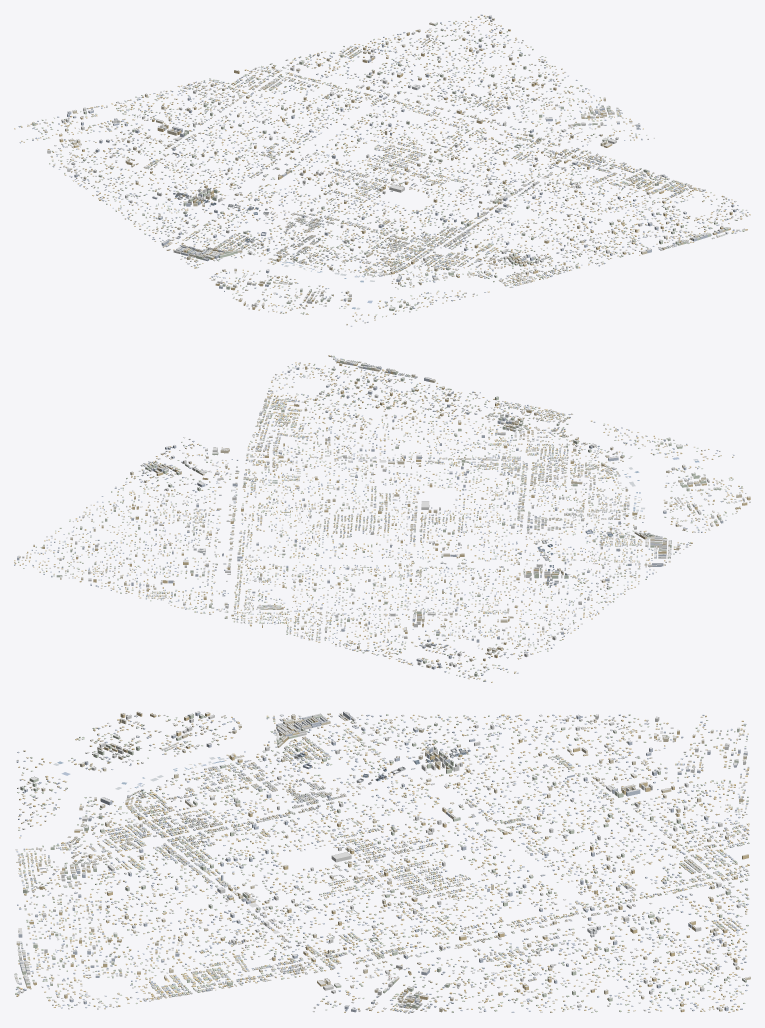
The picture shows the model from 3 angles, top to bottom: view 1: azimuth 30°, elevation 25°; view 2: azimuth 150°, elevation 25°; view 3: azimuth 270°, elevation 25°; orthographic projection. The views are drawn at different scales.
Parts seen in each view (by area): view 1: house, roof_zinc, apartment, roof_flat; view 2: roof_zinc, house, apartment, roof_flat; view 3: house, roof_zinc, apartment, roof_flat.
Boxes of the visible parts, x1,y1,x2,y2 form: house: (14,15,750,326); roof_zinc: (14,14,750,326); apartment: (32,15,744,310); roof_flat: (33,15,744,308); roof_zinc: (14,355,750,682); house: (14,355,750,682); apartment: (17,355,750,676); roof_flat: (17,355,750,673); house: (15,714,749,1013); roof_zinc: (15,714,749,1012); apartment: (14,711,750,1013); roof_flat: (14,711,750,1012).
Size of the model in its own units: 1.4e+08 by 1153690 by 1.46e+08.
